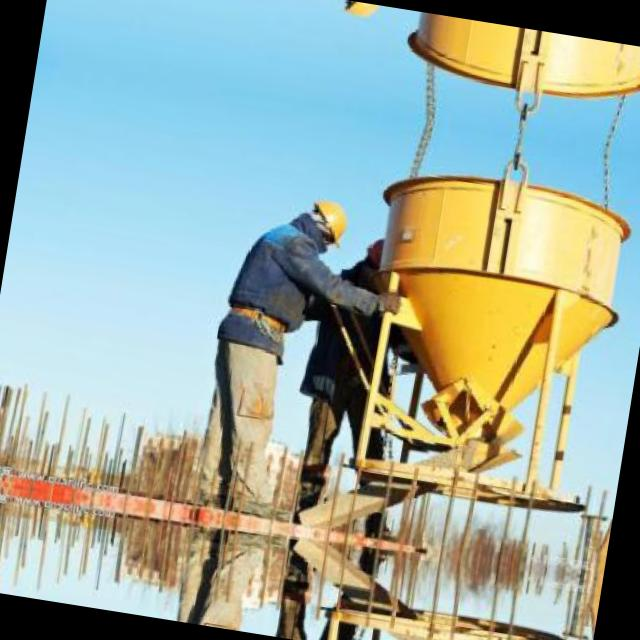helmet: (293, 192, 356, 253), (355, 236, 394, 282), (329, 0, 388, 24)
